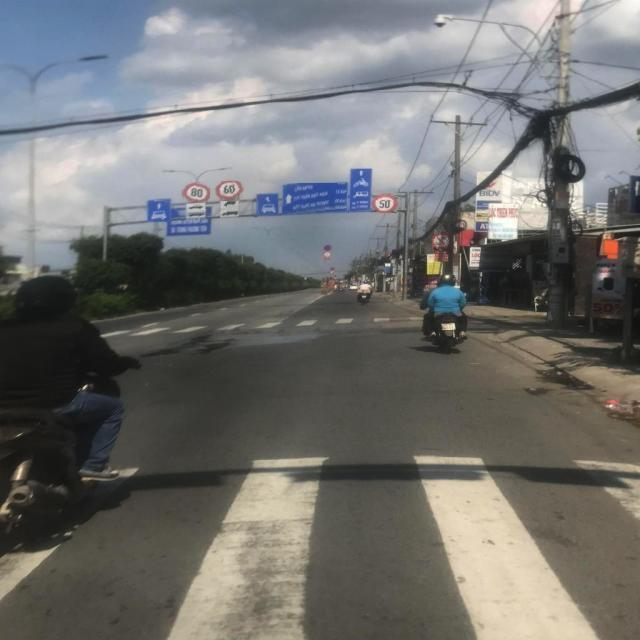127-toc-do-toi-da-50: (372, 194, 398, 213)
127-toc-do-toi-da-60: (216, 180, 244, 200)
127-toc-do-toi-da-80: (183, 182, 211, 202)
